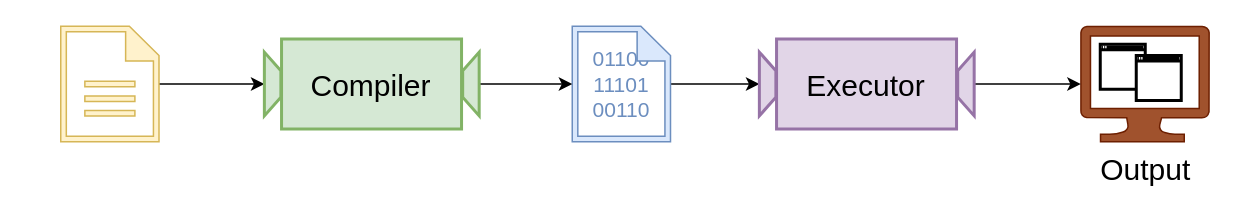
The diagram is 1236 pixels wide and 215 high, and some of its shapes have lost their labels. Here are the shapes that lost their labels. From the top down, the centre of each, then its label:
At pixel 109 83: "Source code".
At pixel 620 83: "Object code".
